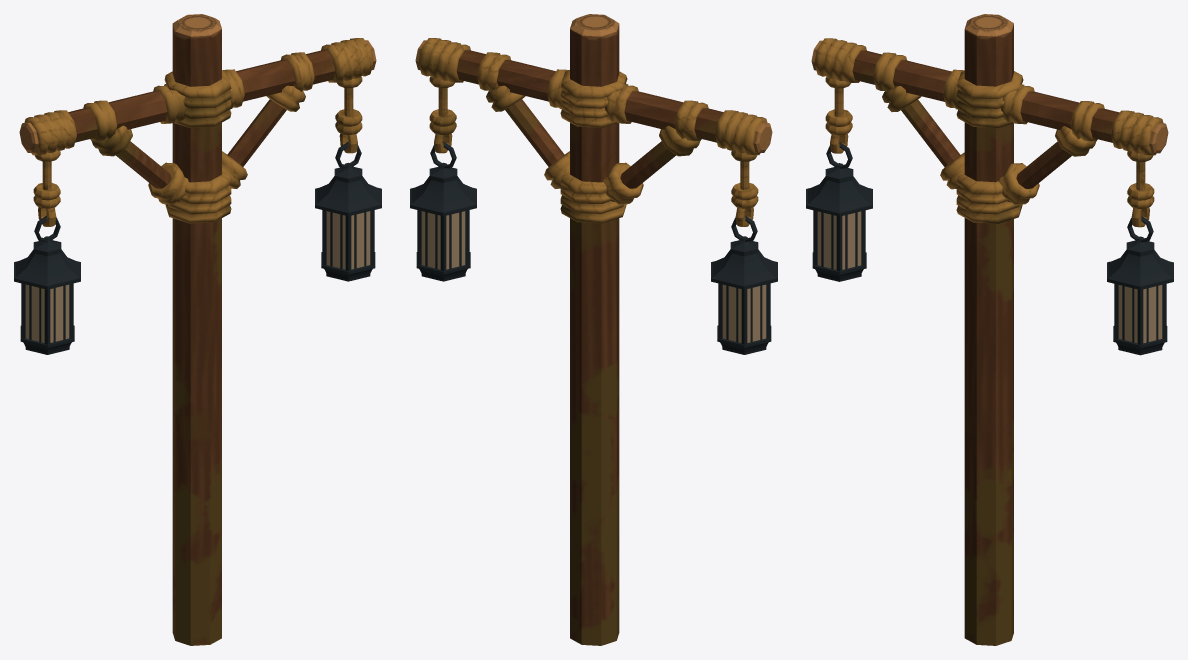
File: AquaticLevelTallLanternPost.fbx
3 renders of one model, left to right at view 1: azimuth 30°, elevation 25°; view 2: azimuth 150°, elevation 25°; view 3: azimuth 330°, elevation 25°, orthographic.
Visible parts, largest first — view 1: TallLantern3; view 2: TallLantern3; view 3: TallLantern3.
Part boxes in pixels (left/top/right/bottom): TallLantern3: left=14, top=14, right=381, bottom=645; TallLantern3: left=410, top=14, right=777, bottom=645; TallLantern3: left=806, top=14, right=1173, bottom=645.
Bounding box in the file's own units: 296 × 472 × 50.92.
Materials: 3 (3 with a texture image).
